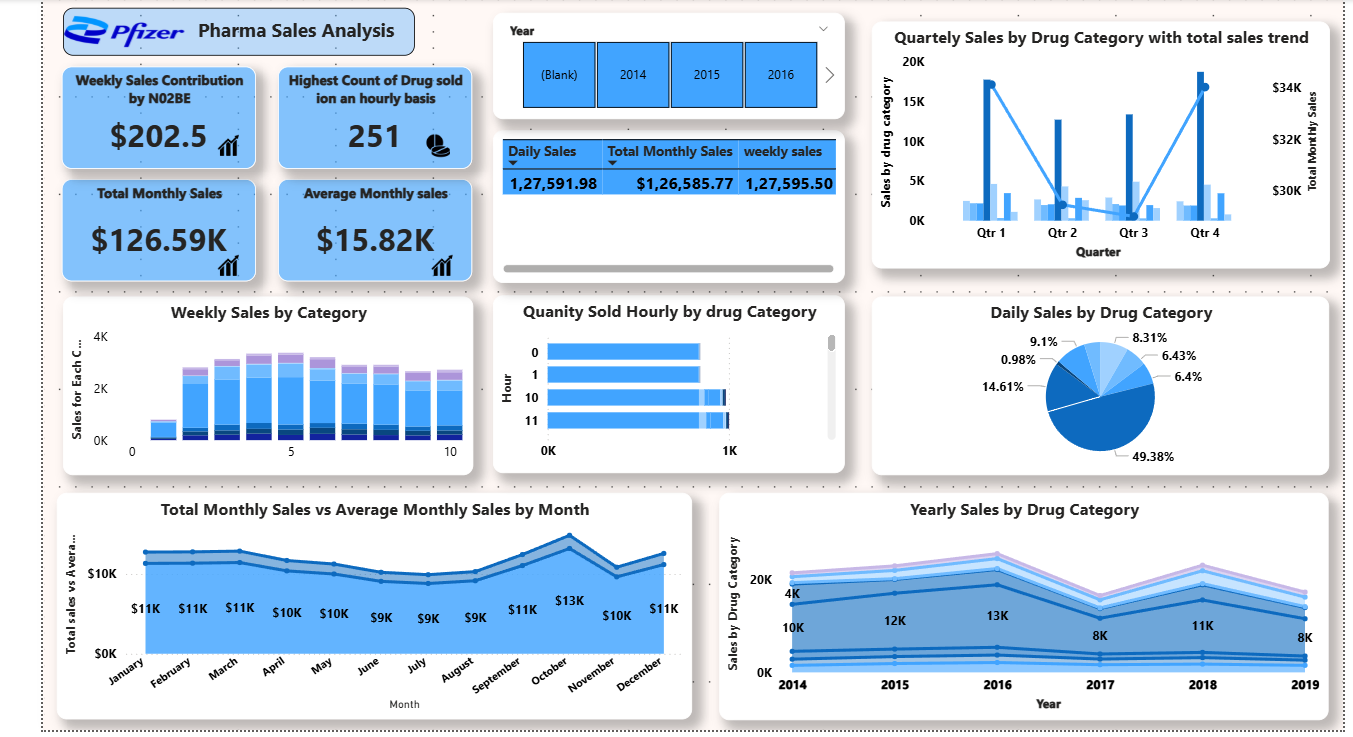

Layout of this report page (visuals, bound fields, positions):
{"tool":"powerbi","page":{"name":"Dashboard","canvas":[1280,720],"ordinal":0},"visuals":[{"type":"textbox","box":[19.2,9,346.2,47.4],"z":0},{"type":"columnChart","title":"Weekly Sales by Category","fields":{"Category":["Sales Weekly.Week Num"],"Y":["Sum(Sales Weekly.M01AB)","Sum(Sales Weekly.M01AE)","Sum(Sales Weekly.N02BA)","Sum(Sales Weekly.N02BE)","Sum(Sales Weekly.N05B)","Sum(Sales Weekly.N05C)","Sum(Sales Weekly.R03)","Sum(Sales Weekly.R06)"]},"box":[19.2,292.3,403.8,175.6],"z":1000},{"type":"stackedAreaChart","title":"Total Monthly Sales vs Average Monthly Sales by Month","fields":{"Category":["Sales Monthly.Date.Variation.Date Hierarchy.Month"],"Y":["Sales Monthly.Total Monthly Sales","Sales Monthly.Average Monthly Sales"]},"box":[13.7,486.3,625.5,223.5],"z":2000},{"type":"barChart","title":"Quanity Sold Hourly by drug Category","fields":{"Category":["Sales Hourly.Hour"],"Y":["CountNonNull(Sales Hourly.M01AB)","Count(Sales Hourly.M01AE)","Count(Sales Hourly.N02BA)","Count(Sales Hourly.N02BE)","Count(Sales Hourly.N05B)","Count(Sales Hourly.N05C)","Count(Sales Hourly.R03)","Count(Sales Hourly.R06)"]},"box":[443.3,292.2,346.7,175.6],"z":3000},{"type":"pieChart","title":"Daily Sales by Drug Category","fields":{"Y":["Sum(Sales Daily.M01AB)","Sum(Sales Daily.M01AE)","Sum(Sales Daily.N02BA)","Sum(Sales Daily.N02BE)","Sum(Sales Daily.N05B)","Sum(Sales Daily.N05C)","Sum(Sales Daily.R03)","Sum(Sales Daily.R06)"]},"box":[815.7,292.8,450.6,175.9],"z":4000},{"type":"stackedAreaChart","title":"Yearly Sales by Drug Category","fields":{"Category":["Sales Monthly.Date.Variation.Date Hierarchy.Year"],"Y":["Sum(Sales Monthly.M01AB)","Sum(Sales Monthly.M01AE)","Sum(Sales Monthly.N02BA)","Sum(Sales Monthly.N02BE)","Sum(Sales Monthly.N05B)","Sum(Sales Monthly.N05C)","Sum(Sales Monthly.R03)","Sum(Sales Monthly.R06)"]},"box":[666.3,486.7,600,224.1],"z":5000},{"type":"lineClusteredColumnComboChart","title":"Quartely Sales by Drug Category with total sales trend","fields":{"Category":["Sales Monthly.Date.Variation.Date Hierarchy.Quarter"],"Y":["Sum(Sales Monthly.M01AB)","Sum(Sales Monthly.M01AE)","Sum(Sales Monthly.N02BA)","Sum(Sales Monthly.N02BE)","Sum(Sales Monthly.N05B)","Sum(Sales Monthly.N05C)","Sum(Sales Monthly.R03)","Sum(Sales Monthly.R06)"],"Y2":["Sales Monthly.Total Monthly Sales"]},"box":[815.6,22.2,451.1,243.3],"z":6000},{"type":"card","title":"Total Monthly Sales","fields":{"Values":["Sales Monthly.Total Monthly Sales"]},"box":[18.9,177.8,191.1,101.1],"z":7000},{"type":"card","title":"Average Monthly sales","fields":{"Values":["Sales Monthly.Average Monthly Sales"]},"box":[231.1,177.8,191.1,101.1],"z":8000},{"type":"card","title":"Highest Count of Drug sold ion an hourly basis","fields":{"Values":["Count(Sales Hourly.N02BE)"]},"box":[231.1,66.7,191.1,101.1],"z":9000},{"type":"card","title":"Weekly Sales Contribution by N02BE","fields":{"Values":["Sales Weekly.weekly sales contribution by N02BE"]},"box":[18.9,66.7,191.1,101.1],"z":10000},{"type":"tableEx","fields":{"Values":["Sales Daily.Daily Sales","Sales Monthly.Total Monthly Sales","Sales Weekly.weekly sales"]},"box":[443.3,128.9,346.7,150],"z":11000},{"type":"slicer","fields":{"Values":["Sales Monthly.Date.Variation.Date Hierarchy.Year"]},"box":[443.3,13.3,346.7,104.4],"z":12000},{"type":"image","box":[365.6,127.8,47.8,33.3],"z":13000},{"type":"image","box":[162.2,127.8,40,33.3],"z":14000},{"type":"image","box":[162.2,245.6,40,33.3],"z":15000},{"type":"image","box":[373.3,245.6,40,33.3],"z":16000},{"type":"image","box":[16,0,128,64],"z":16001}]}

Visuals, with their boxes in screenshot pixels (x1, y1, x2, y2):
textbox: crop(72, 23, 421, 71)
"Weekly Sales by Category" columnChart: crop(72, 309, 480, 486)
"Total Monthly Sales vs Average Monthly Sales by Month" stackedAreaChart: crop(67, 505, 698, 730)
"Quanity Sold Hourly by drug Category" barChart: crop(500, 309, 850, 486)
"Daily Sales by Drug Category" pieChart: crop(876, 309, 1330, 487)
"Yearly Sales by Drug Category" stackedAreaChart: crop(725, 505, 1330, 731)
"Quartely Sales by Drug Category with total sales trend" lineClusteredColumnComboChart: crop(875, 36, 1330, 282)
"Total Monthly Sales" card: crop(72, 193, 265, 295)
"Average Monthly sales" card: crop(286, 193, 479, 295)
"Highest Count of Drug sold ion an hourly basis" card: crop(286, 81, 479, 183)
"Weekly Sales Contribution by N02BE" card: crop(72, 81, 265, 183)
tableEx - Sales Daily.Daily Sales x Sales Monthly.Total Monthly Sales: crop(500, 144, 850, 295)
slicer - Sales Monthly.Date.Variation.Date Hierarchy.Year: crop(500, 28, 850, 133)
image: crop(422, 143, 470, 177)
image: crop(216, 143, 257, 177)
image: crop(216, 262, 257, 295)
image: crop(429, 262, 470, 295)
image: crop(69, 14, 198, 79)
